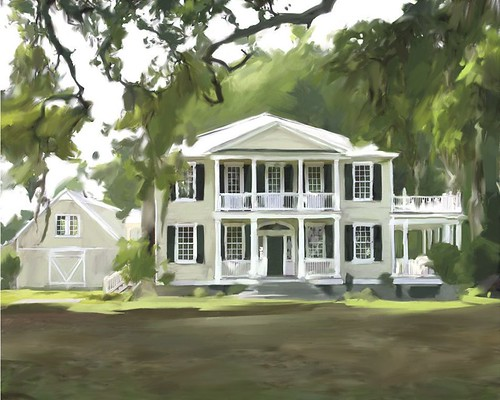low: (150, 114, 464, 290), (10, 186, 140, 286)
